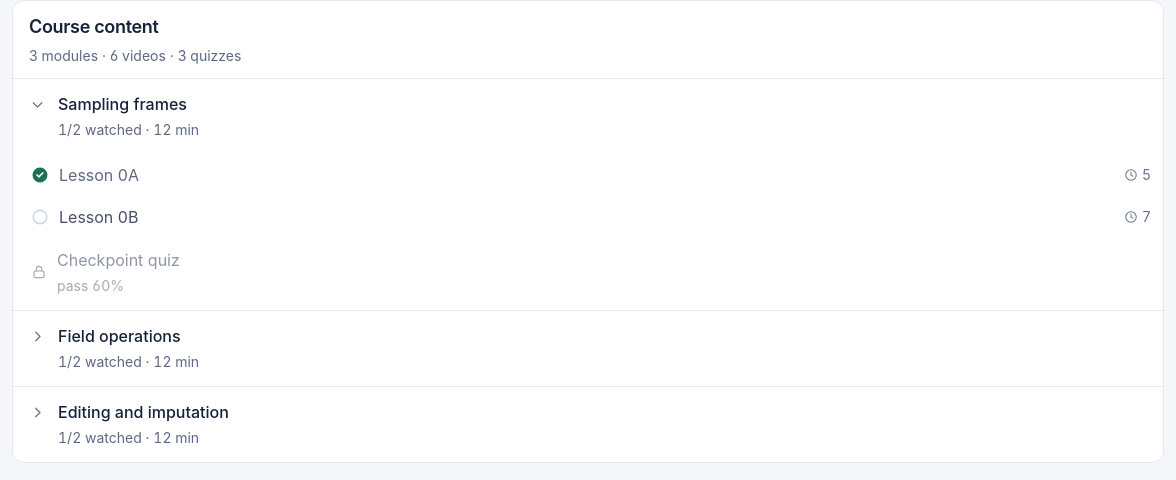
Test case: CurriculumPanel › collapses and expands a module
Click the button "Sampling frames 1/2 watched · 12 min" at (122, 104), box [13,79,1163,154]
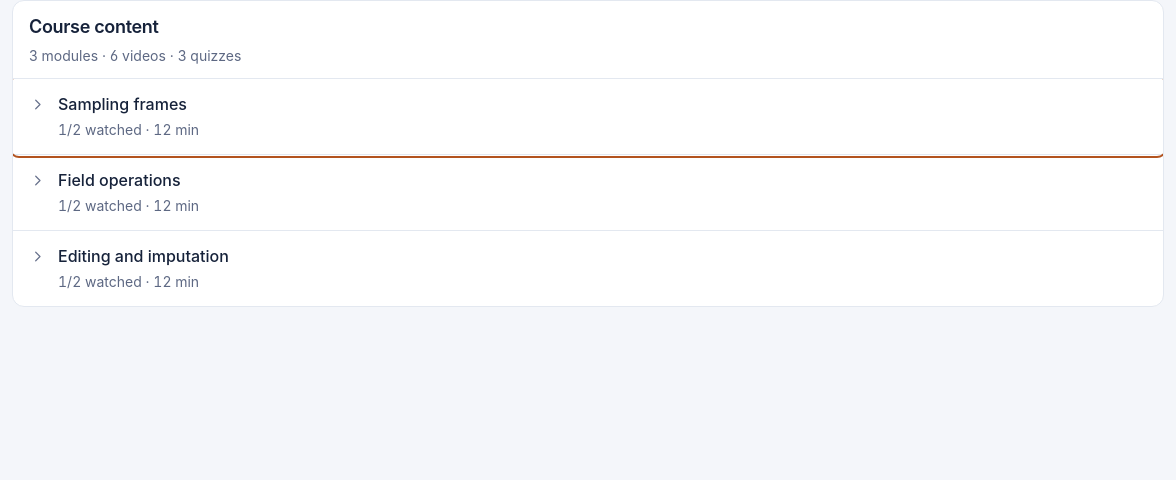
Now the button "Lesson 0A" is gone
